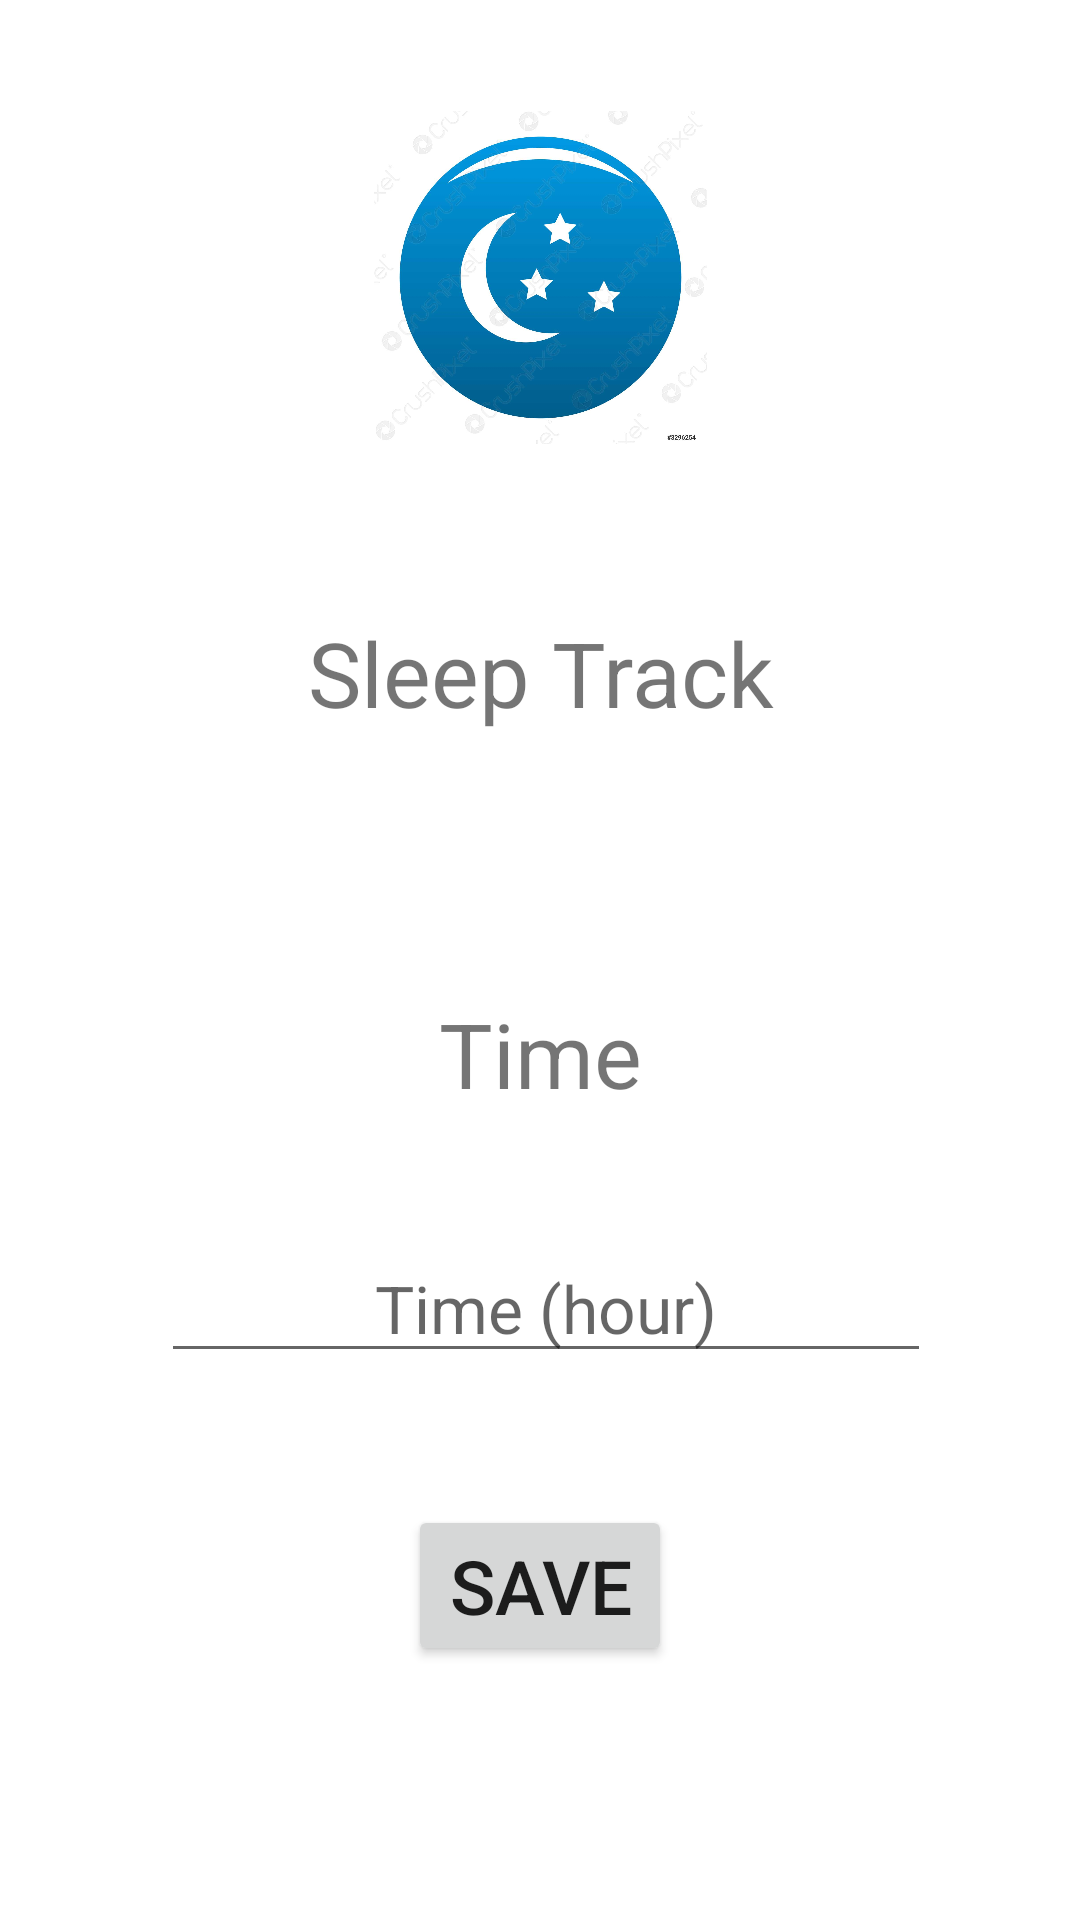

Icon bounding boxes for this 1080 x 1920 phone screenshot, format (x1,y1,x2,y2):
sleep: (380,123,696,440)
